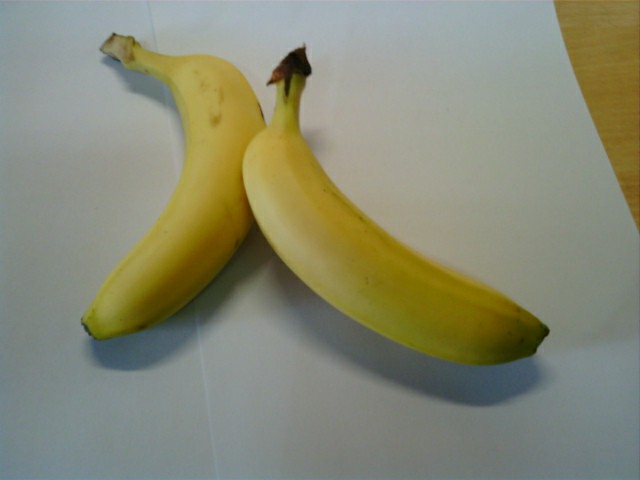fresh_banana: (247, 104, 552, 361), (85, 40, 272, 340)
